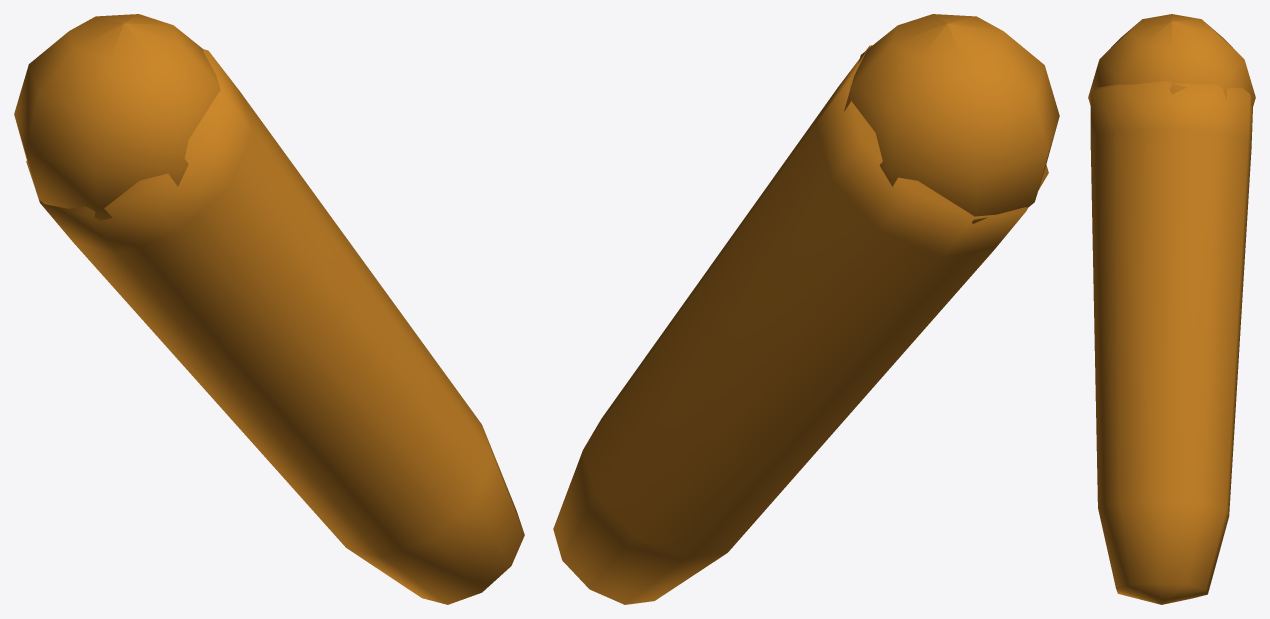
File: upperarm_L.obj
3 renders of one model, left to right at view 1: azimuth 30°, elevation 25°; view 2: azimuth 150°, elevation 25°; view 3: azimuth 270°, elevation 25°, orthographic. The views are drawn at different scales.
Parts seen in each view (by area): view 1: upperarm_L; view 2: upperarm_L; view 3: upperarm_L.
Boxes of the visible parts, x1,y1,x2,y2 form: upperarm_L: [14, 14, 524, 604]; upperarm_L: [553, 14, 1059, 604]; upperarm_L: [1088, 14, 1255, 604].
Bounding box in the file's own units: 0.2442 × 0.3107 × 0.0998.
